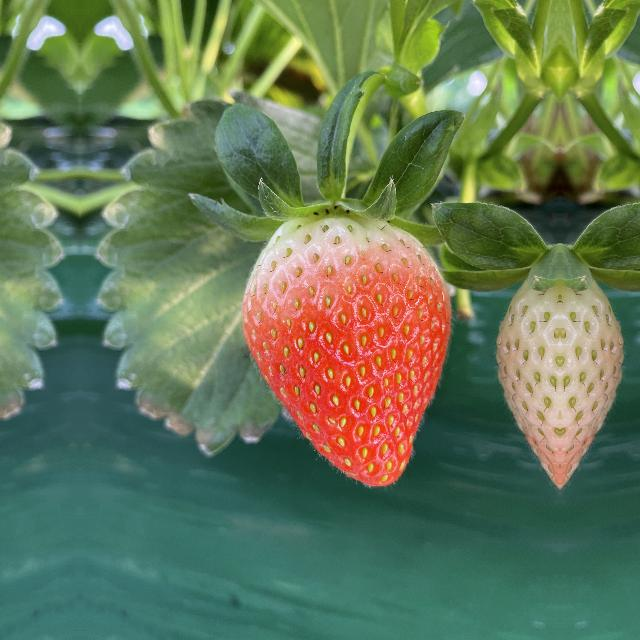Health_100: (246, 204, 468, 498)
Health_25: (494, 238, 560, 490), (560, 238, 626, 490)
